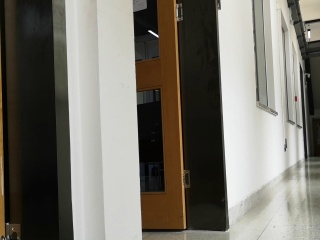room: (129, 3, 234, 238), (2, 2, 81, 240)
